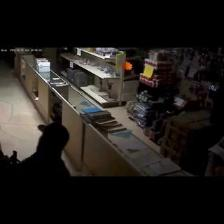person: (14, 123, 69, 177)
